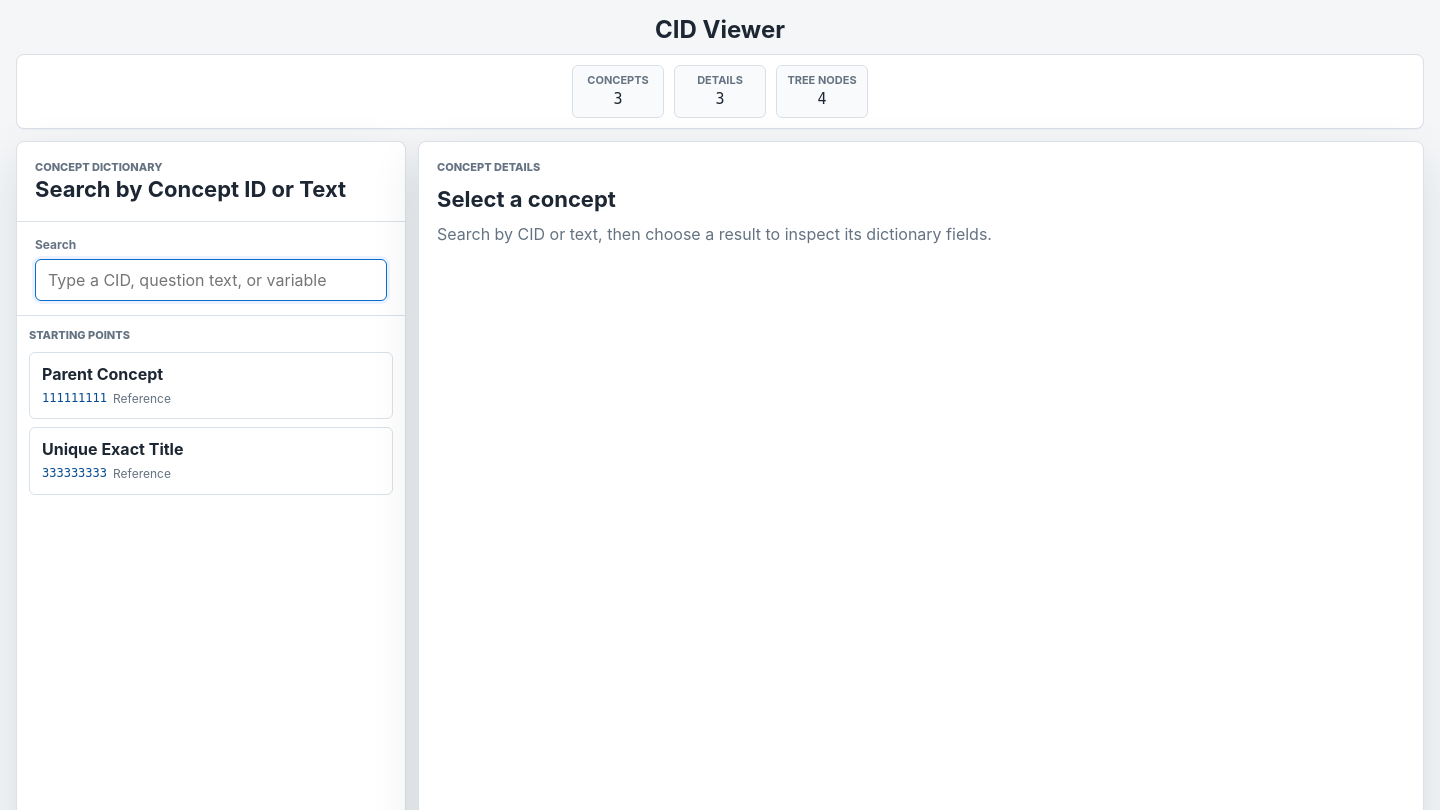
App search and selection › preserves an exact title query while selecting matching details
This screenshot has width=1440, height=810.
Type "Unique Exact Title" into the search field labelled "Search".
click(211, 280); type("Unique Exact Title")  # box [35, 259, 387, 301]
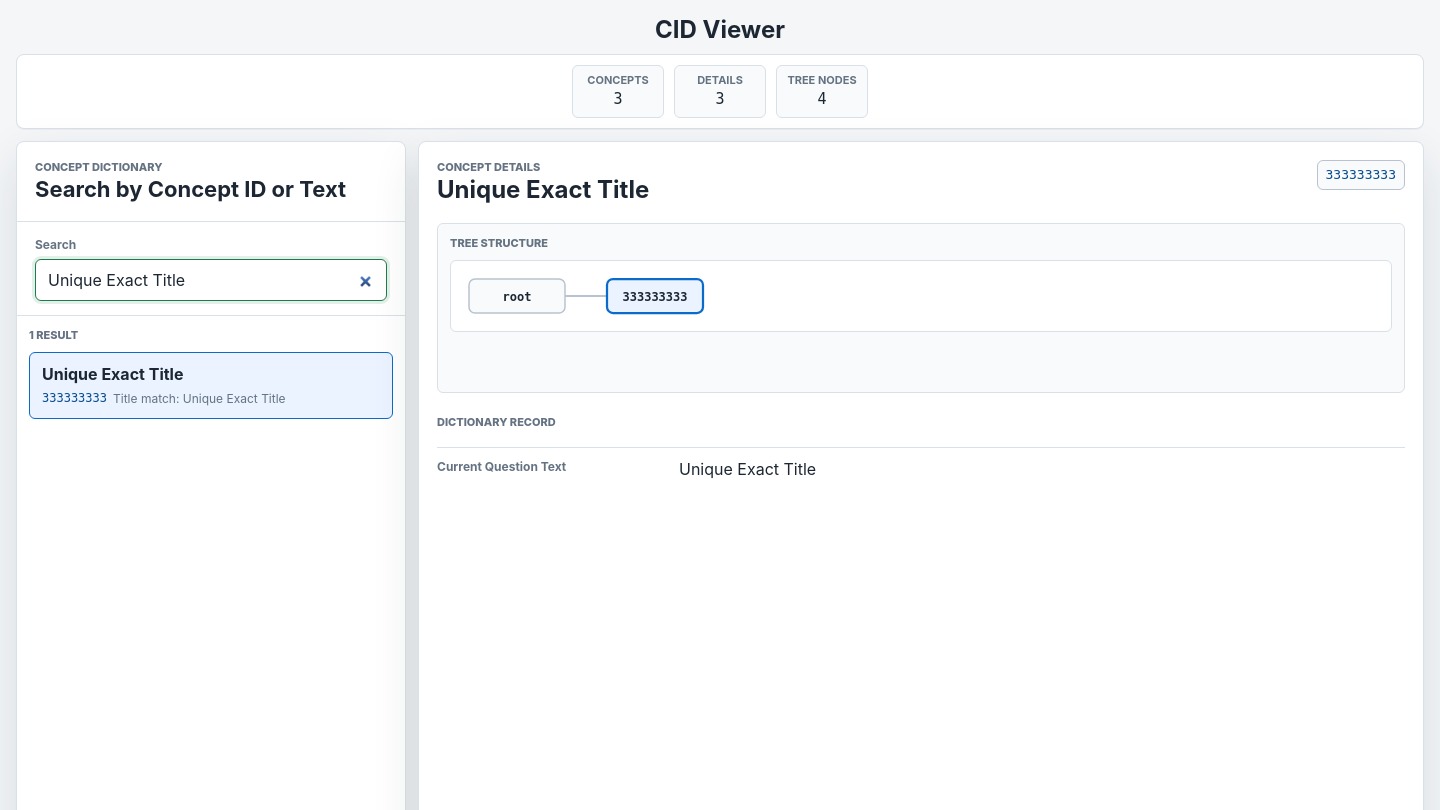
Expected: the heading "Unique Exact Title" is shown, [437, 176, 649, 205]
